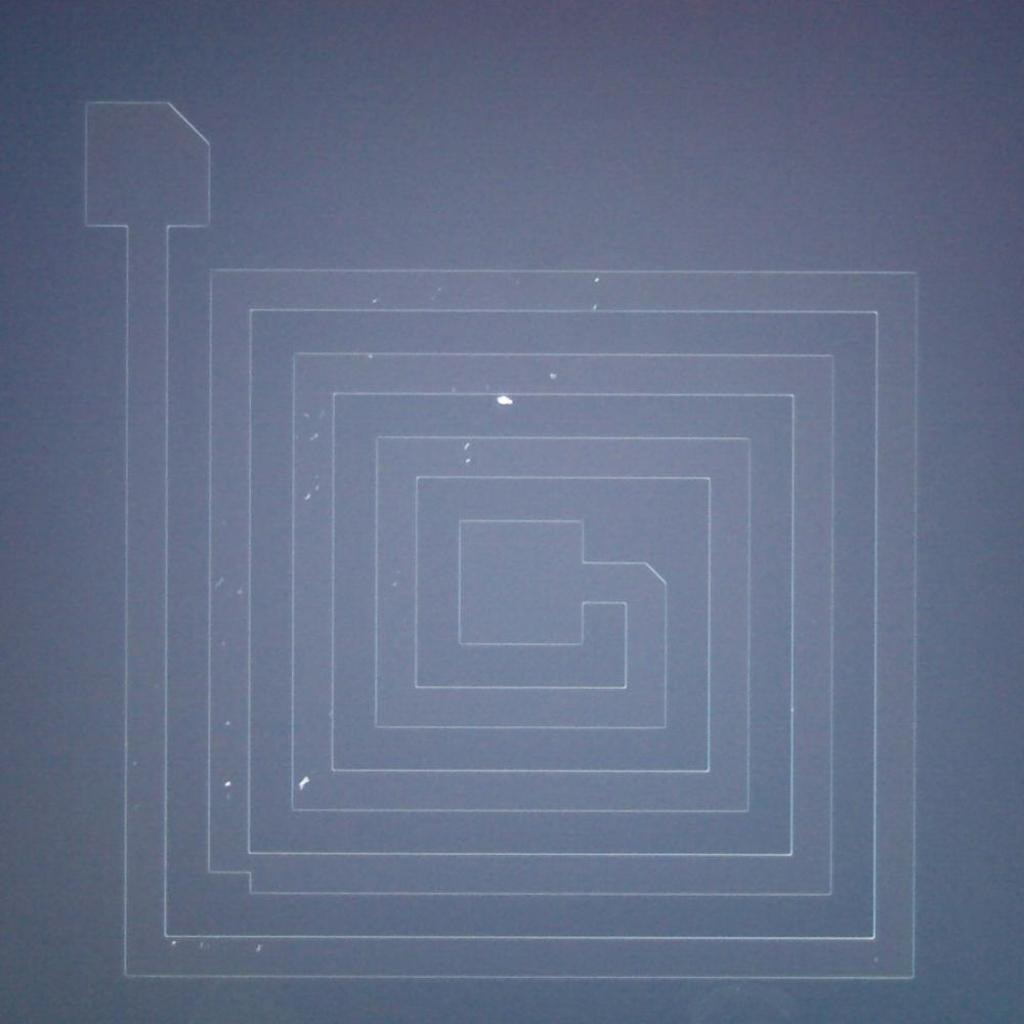dot: (298, 776, 310, 791), (498, 395, 510, 407), (463, 442, 470, 450), (550, 373, 556, 379), (465, 458, 471, 464), (315, 485, 321, 491), (304, 494, 310, 500), (172, 940, 176, 946), (226, 780, 230, 786), (594, 278, 599, 282)
